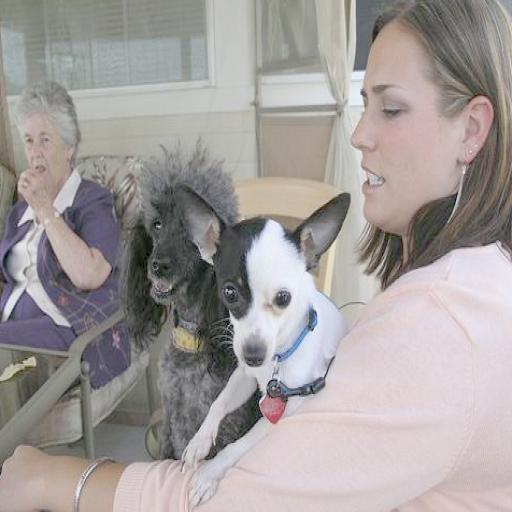dog_face: (202, 184, 343, 375), (102, 166, 236, 343)
